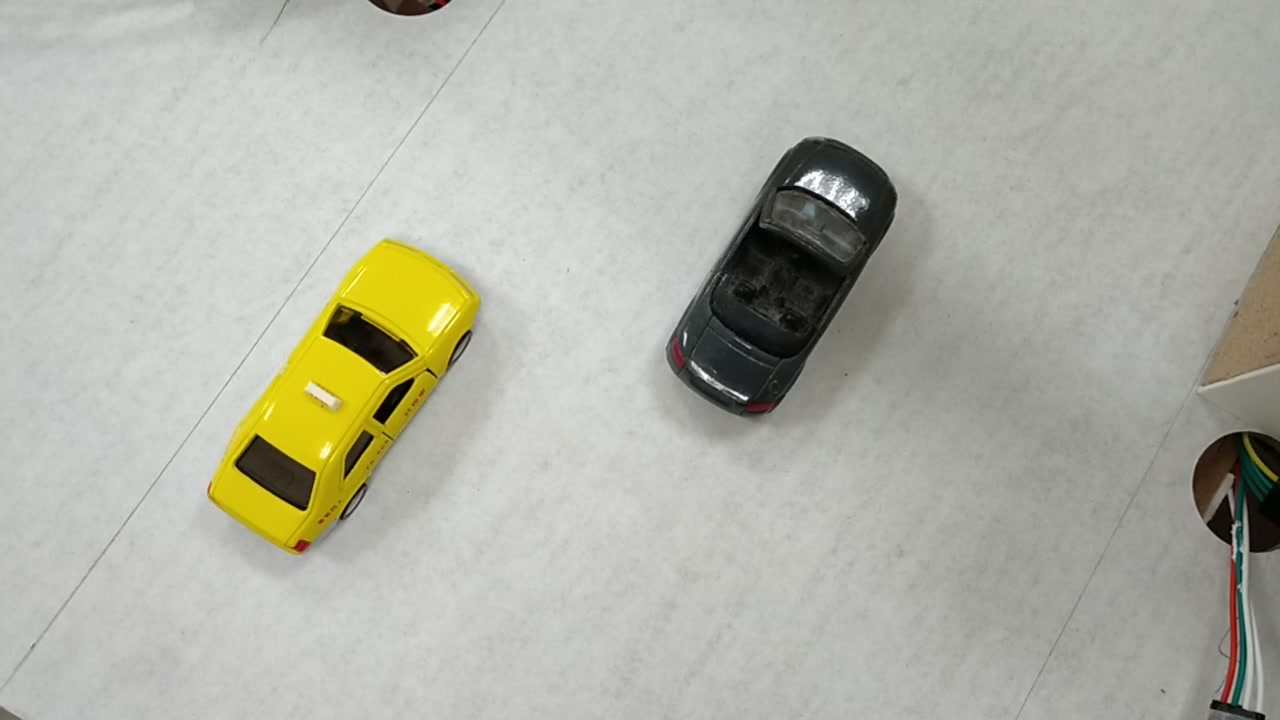car: (211, 259, 478, 548), (666, 151, 890, 411)
